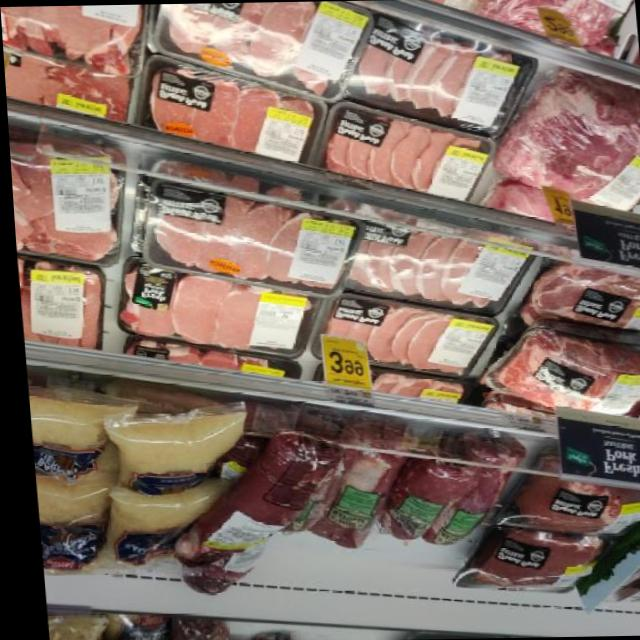Meat: (165, 428, 334, 598), (134, 0, 373, 109), (129, 197, 356, 301), (480, 62, 640, 208), (121, 66, 336, 174), (336, 24, 539, 138), (97, 264, 320, 362), (374, 425, 525, 558), (302, 294, 516, 384), (316, 128, 528, 218), (334, 218, 550, 306), (482, 314, 640, 422), (7, 138, 127, 268), (442, 534, 640, 612), (292, 428, 409, 559), (492, 461, 640, 556), (0, 3, 140, 87)
